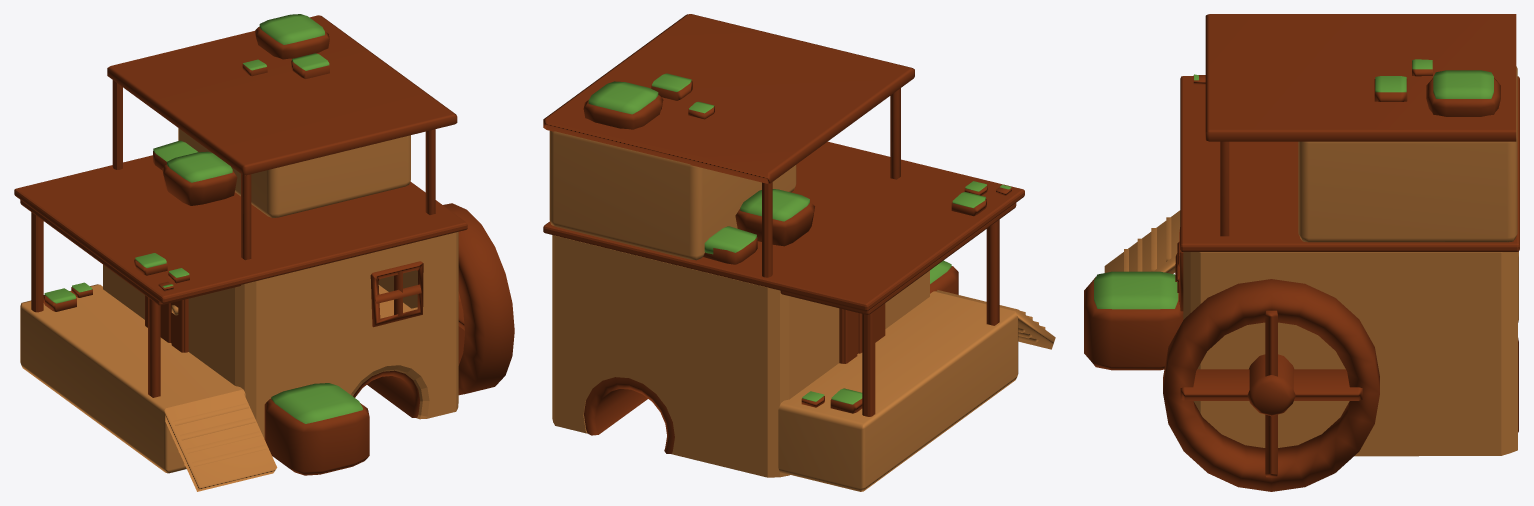
File: WaterMillLow.fbx
The picture shows the model from 3 angles, left to right: view 1: azimuth 30°, elevation 25°; view 2: azimuth 150°, elevation 25°; view 3: azimuth 270°, elevation 25°; orthographic projection. The views are drawn at different scales.
Visible parts, largest first — view 1: polySurface5, polySurface1; view 2: polySurface5; view 3: polySurface5, polySurface1.
Boxes of the visible parts, x1,y1,x2,y2 form: polySurface5: (14,14,467,491); polySurface1: (443,203,514,395); polySurface5: (543,14,1055,491); polySurface5: (1084,14,1519,456); polySurface1: (1163,279,1379,491).
Size of the model in its own units: 37.22 by 31.91 by 34.88.
